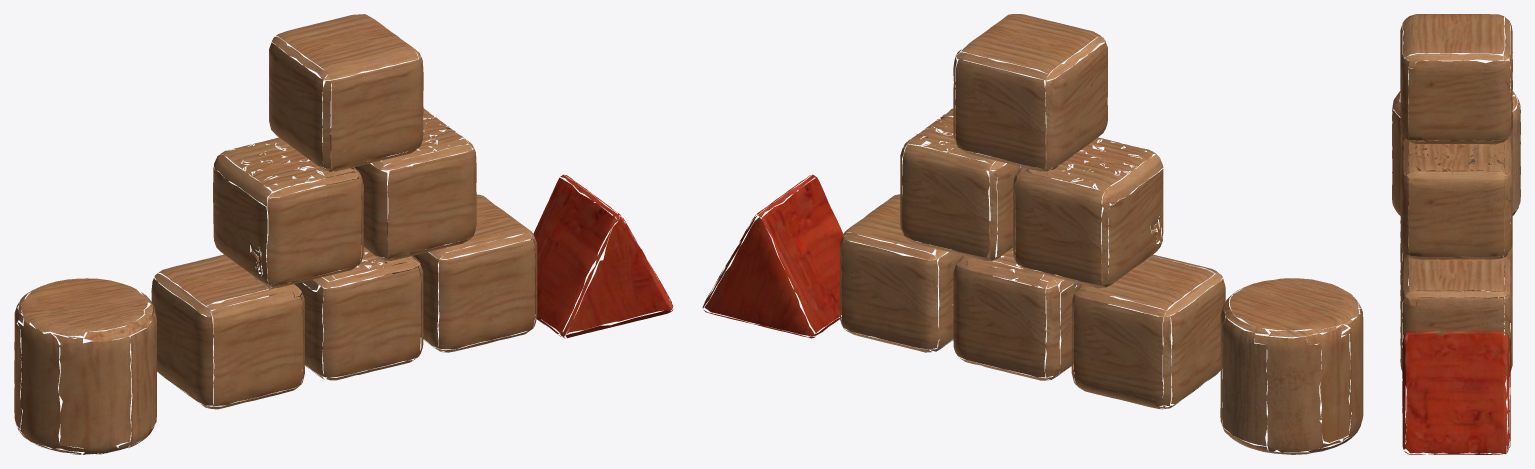
File: model-wooden-toy.glb
3 renders of one model, left to right at view 1: azimuth 30°, elevation 25°; view 2: azimuth 150°, elevation 25°; view 3: azimuth 270°, elevation 25°, orthographic. The views are drawn at different scales.
Visible parts, largest first — view 1: world; view 2: world; view 3: world.
Boxes of the visible parts, x1=… form: world: x1=14, y1=14, x2=673, y2=454; world: x1=702, y1=14, x2=1363, y2=454; world: x1=1392, y1=14, x2=1520, y2=454.
Size of the model in its own units: 1 by 0.4994 by 0.199.
1 material, 1 textured.
